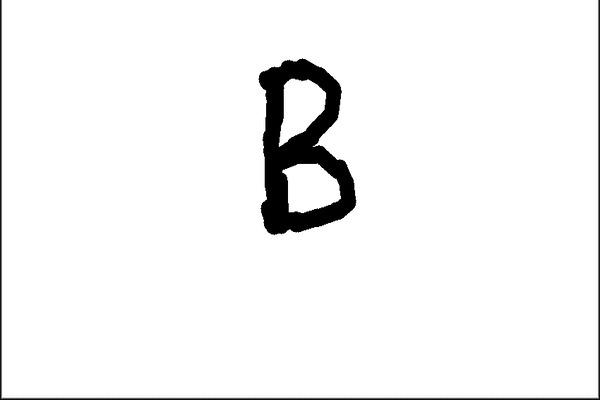B: (247, 49, 365, 240)
